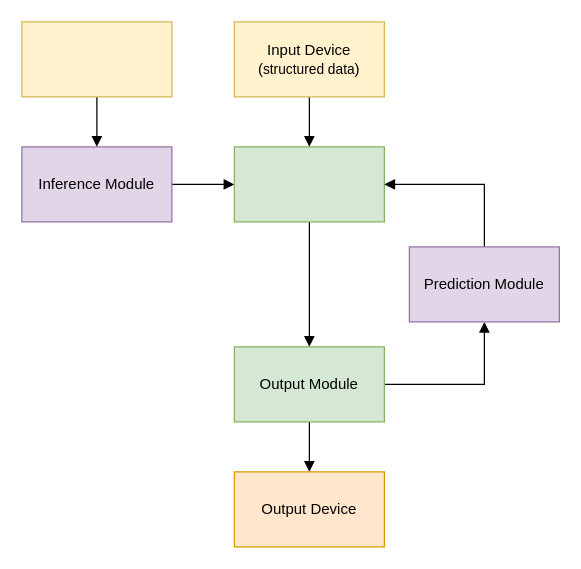
This 581x569 diagram has some shape labels left out. Here are the shapes that lost their labels. From the top down, the centre of each, then its label:
pixel 96 59: Input Device (un structured data )
pixel 308 184: Input Module
